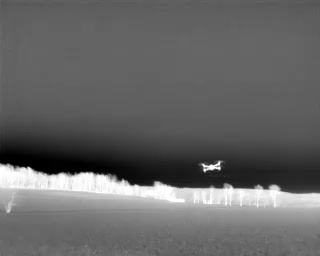DRONE: (196, 156, 227, 178)
